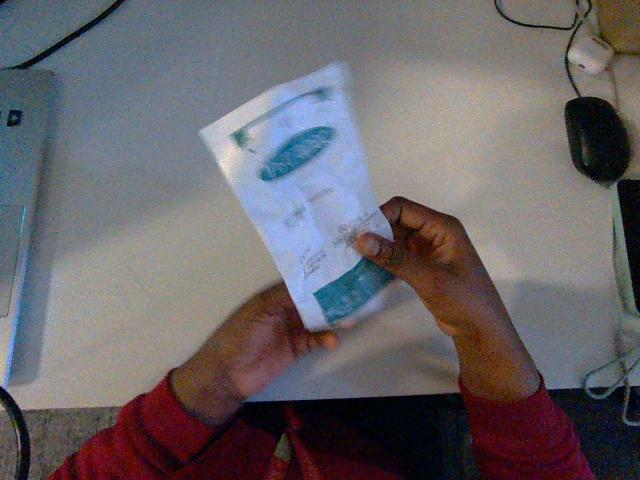gallipot: (200, 64, 392, 330)
